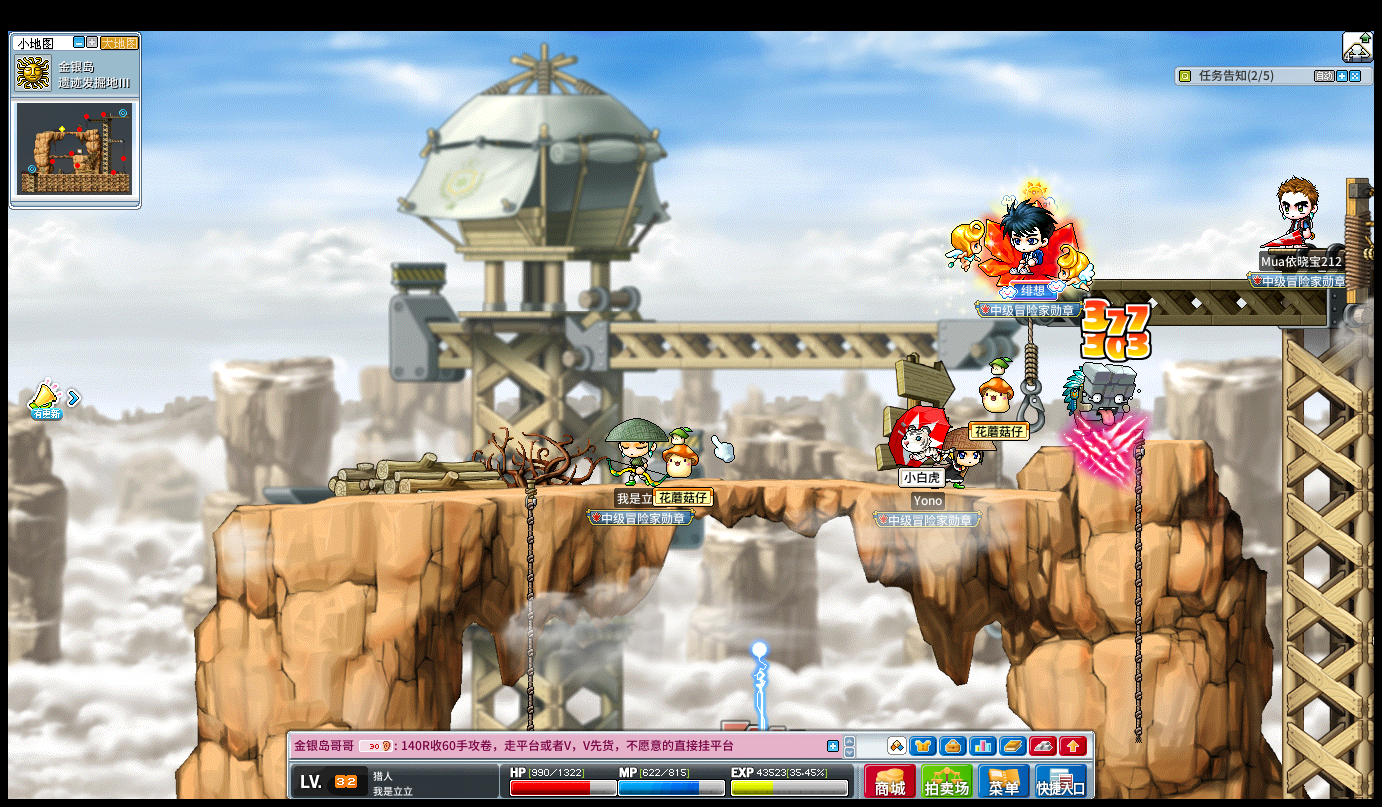floor: (210, 475, 1046, 506), (212, 475, 1113, 493)
monster: (1061, 360, 1138, 459)
rope: (1130, 435, 1146, 745), (522, 467, 534, 686), (525, 475, 536, 688)
